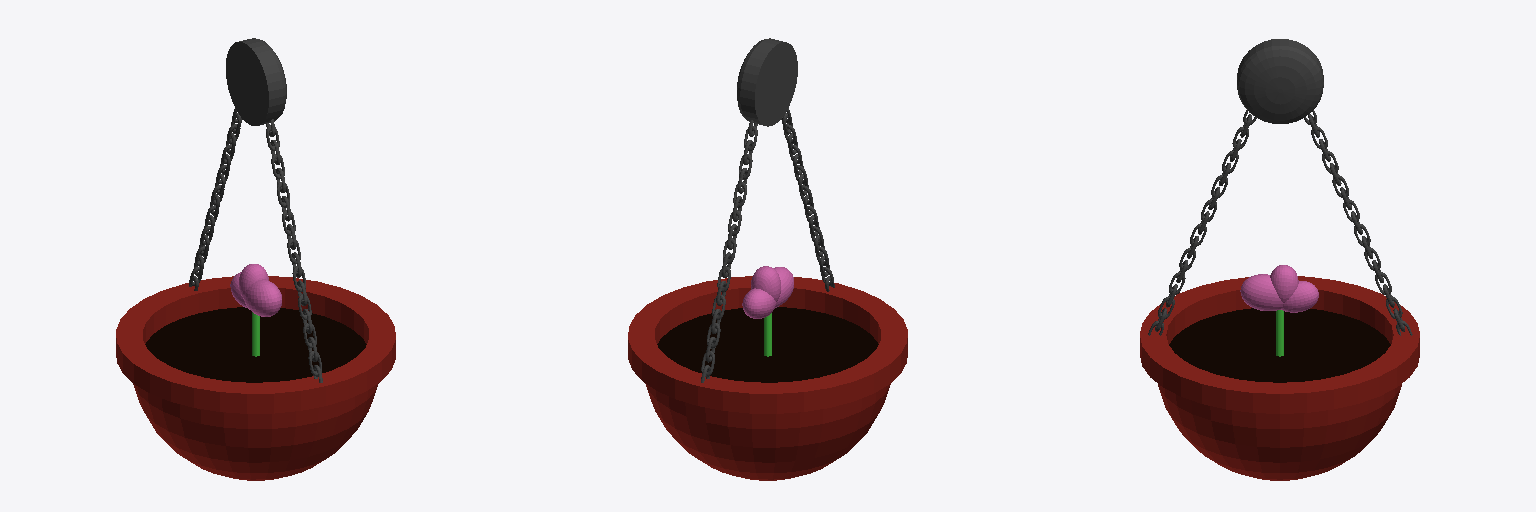
The model's file is Maceta_02 1.obj.
3 views of the same model, side by side, from view 1: azimuth 30°, elevation 25°; view 2: azimuth 150°, elevation 25°; view 3: azimuth 270°, elevation 25° (orthographic).
Parts seen in each view (by area): view 1: Cylinder.017; view 2: Cylinder.017; view 3: Cylinder.017.
Boxes of the visible parts, box(x1,y1,x2,y2) form: Cylinder.017: box(116, 38, 395, 480); Cylinder.017: box(628, 38, 907, 480); Cylinder.017: box(1140, 39, 1419, 480).
Size of the model in its own units: 0.7166 by 1.2 by 0.7166.